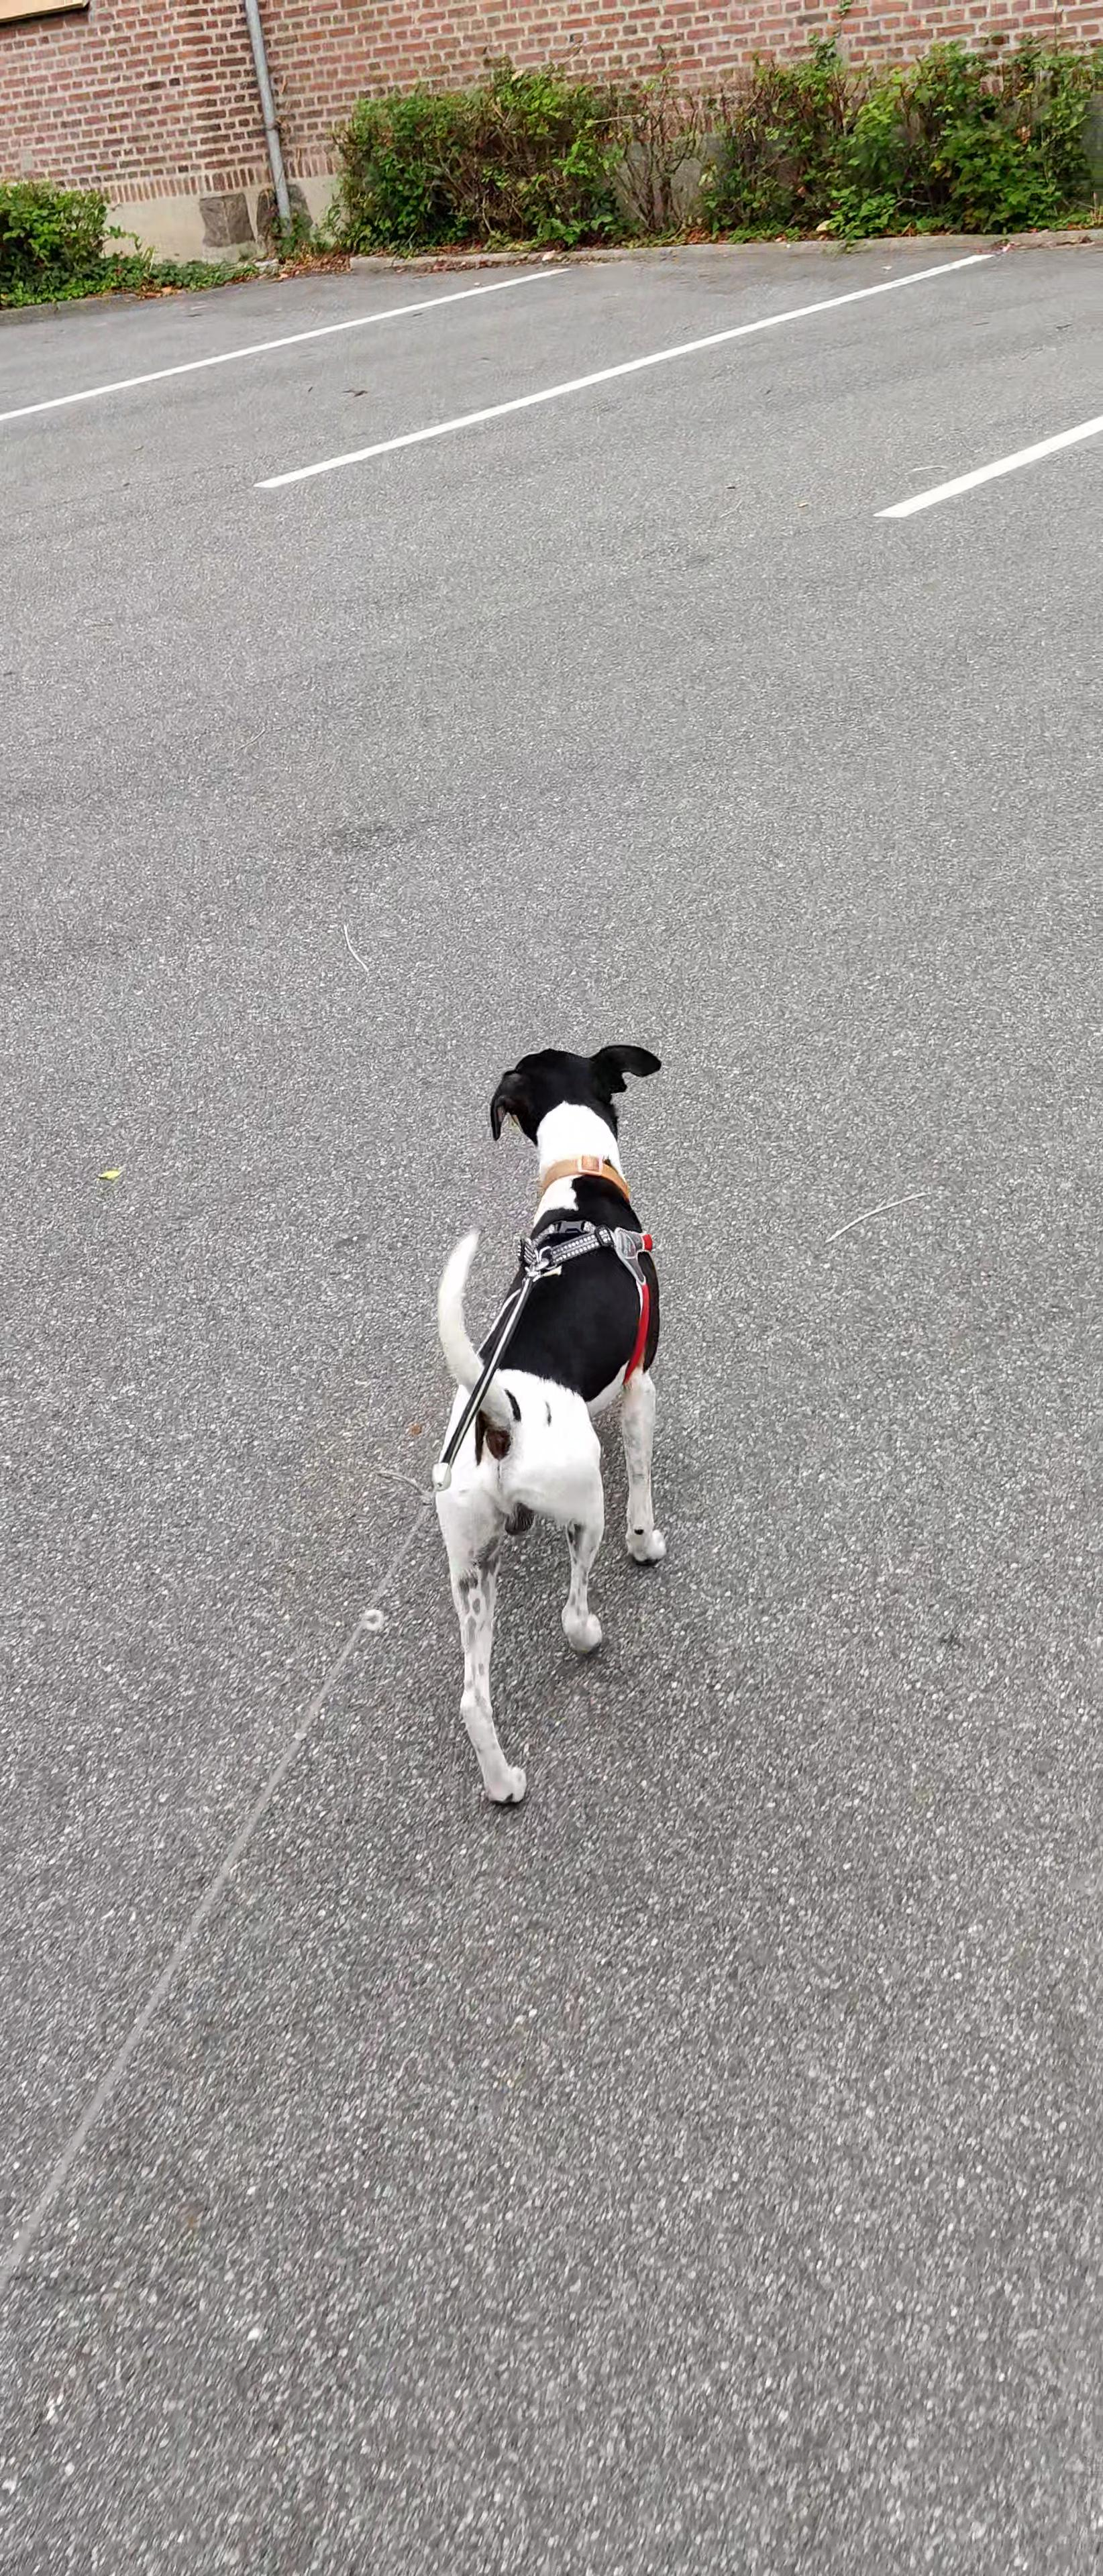Dog: (363, 1009, 731, 1848)
